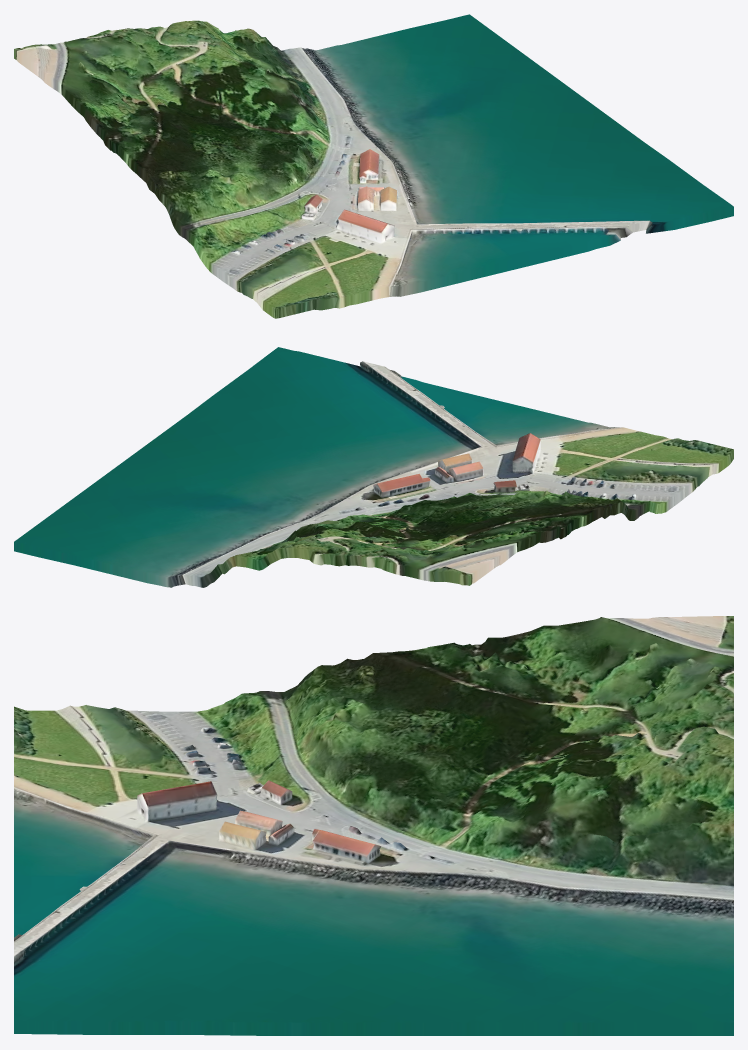
The model's file is z17-20945-50646-h0-yup-uvflip-v3-world.glb.
3 renders of one model, top to bottom at view 1: azimuth 30°, elevation 25°; view 2: azimuth 150°, elevation 25°; view 3: azimuth 270°, elevation 25°, orthographic. The views are drawn at different scales.
Size of the model in its own units: 241 by 43.84 by 243.
Materials: 1 (1 with a texture image).
